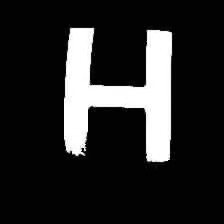LTR_H: (44, 10, 179, 173)
